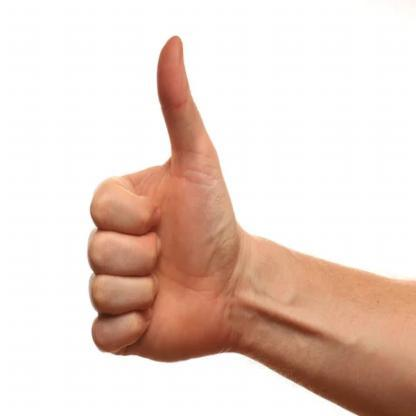thumb_up: (86, 31, 236, 365)
